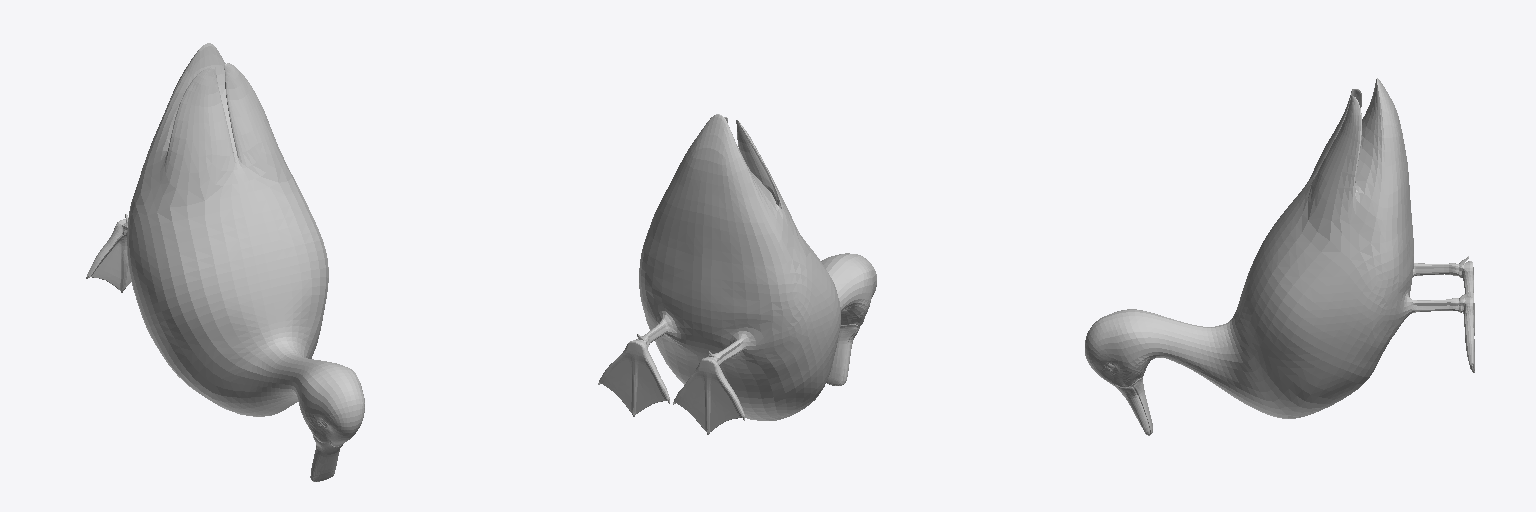
File: green_duck.obj
3 renders of one model, left to right at view 1: azimuth 30°, elevation 25°; view 2: azimuth 150°, elevation 25°; view 3: azimuth 270°, elevation 25°, orthographic.
Visible parts, largest first — view 1: 12248_Bird_v1; view 2: 12248_Bird_v1; view 3: 12248_Bird_v1.
Part boxes in pixels (left/top/right/bottom): 12248_Bird_v1: left=86, top=43, right=364, bottom=481; 12248_Bird_v1: left=598, top=114, right=876, bottom=434; 12248_Bird_v1: left=1085, top=78, right=1474, bottom=435.
Size of the model in its own units: 28.45 by 56.51 by 56.47.